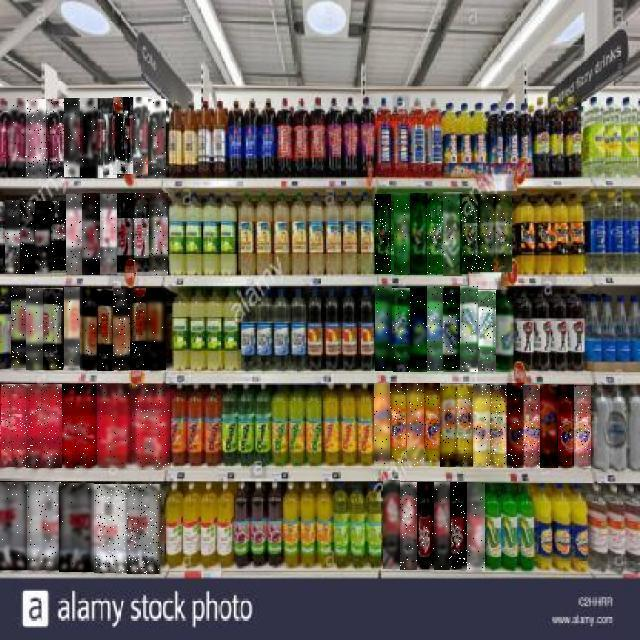Drinks: (128, 484, 164, 574), (60, 483, 96, 572), (133, 384, 170, 470), (95, 484, 129, 573), (27, 384, 63, 468), (62, 384, 98, 468), (98, 384, 134, 468), (27, 482, 61, 570), (0, 482, 28, 570), (1, 384, 27, 467), (43, 288, 63, 370), (146, 288, 166, 370), (460, 195, 480, 275), (80, 99, 100, 179), (113, 98, 133, 178), (443, 192, 462, 276), (467, 484, 485, 572), (26, 99, 46, 178), (149, 194, 168, 276), (460, 286, 478, 372), (376, 286, 394, 371), (98, 99, 117, 179), (383, 480, 400, 569), (540, 384, 558, 468), (8, 98, 27, 177), (46, 99, 65, 178), (400, 482, 417, 570), (417, 482, 434, 570), (434, 482, 451, 570), (450, 482, 467, 570), (440, 384, 458, 467), (82, 193, 100, 275), (64, 288, 82, 370), (80, 288, 98, 370), (478, 290, 496, 372), (390, 384, 408, 466), (427, 286, 444, 371), (507, 383, 524, 468), (130, 98, 148, 178), (376, 194, 394, 274), (393, 288, 410, 372), (410, 288, 427, 372), (443, 288, 460, 372), (523, 384, 540, 468), (557, 384, 574, 468), (148, 99, 166, 178), (64, 98, 82, 177), (456, 384, 473, 467), (478, 194, 496, 272), (494, 194, 512, 272), (117, 194, 134, 276), (133, 194, 150, 276), (394, 193, 411, 275), (410, 193, 427, 275), (426, 193, 443, 275), (26, 288, 43, 370), (97, 289, 114, 371), (113, 288, 130, 370), (130, 288, 147, 370), (496, 290, 513, 372), (407, 384, 424, 466), (424, 384, 441, 466), (473, 385, 490, 467), (490, 385, 507, 467), (574, 386, 591, 468), (66, 194, 83, 274), (100, 194, 117, 274), (375, 384, 391, 466), (11, 288, 26, 370), (5, 201, 21, 275), (21, 201, 37, 275), (35, 202, 51, 276), (51, 202, 67, 276)
